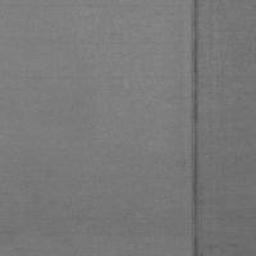Welding line: (189, 0, 200, 256)
